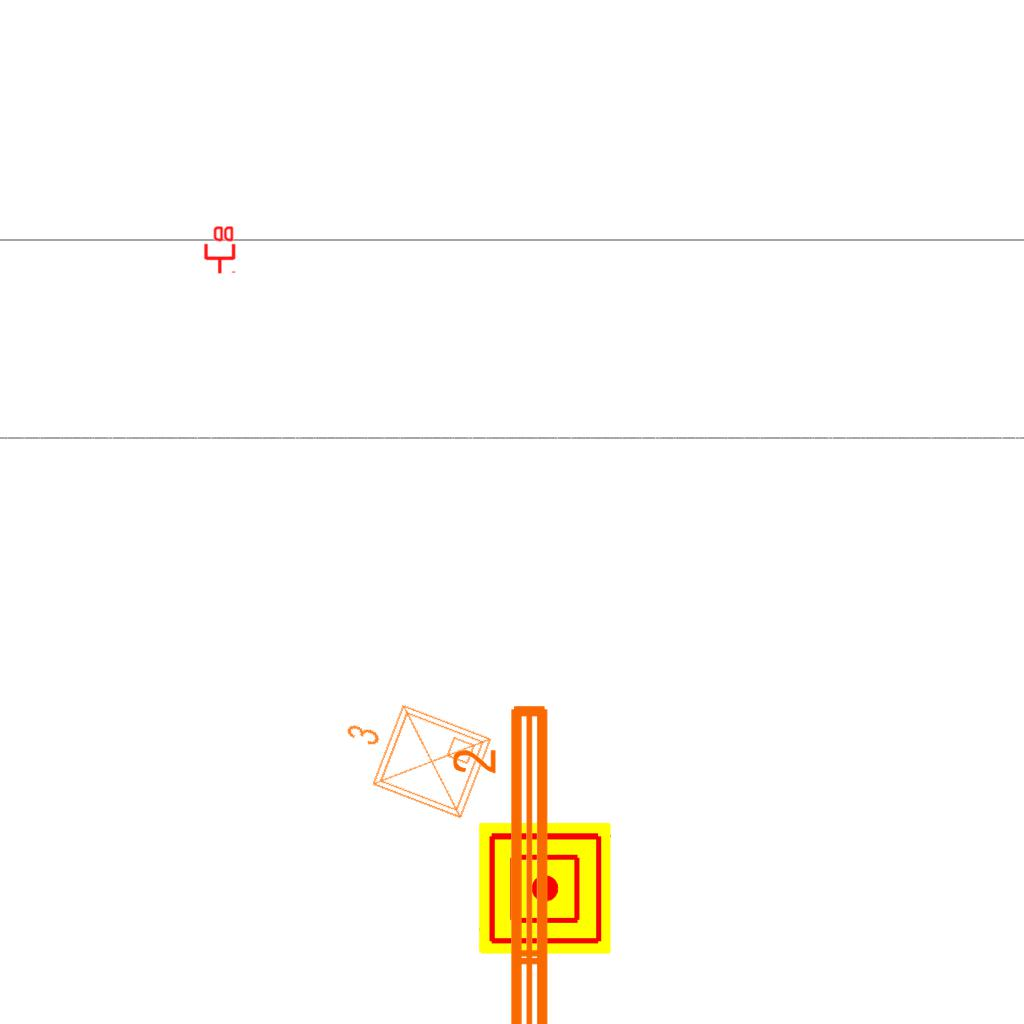Ambulanz_Pendelleuchte_LED: (448, 697, 560, 1024)
Datenanschluss_zweifach: (202, 224, 236, 275)
Einbaudownlights_LED_Konferenzraeume: (323, 680, 501, 832)
NAM-Nichtautomatischer_Melder: (479, 822, 611, 954)
